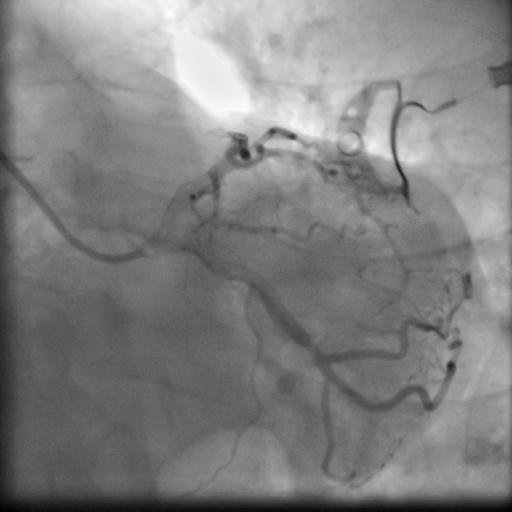Stenosis: (306, 337, 321, 357)
